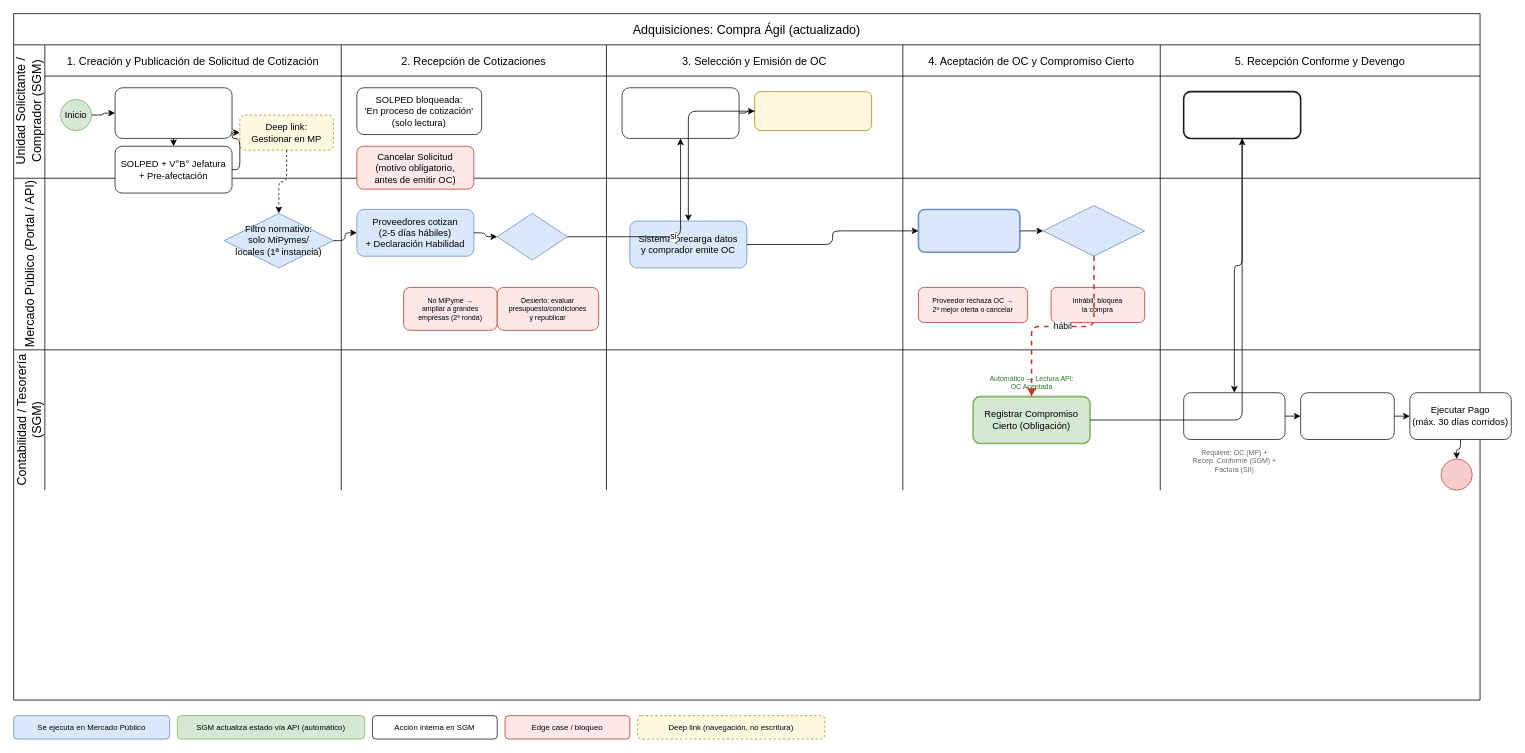
Image size: 1525x753. Some labels were removed from this diagram. Here are the shapes that lost their labels. From the top down, the centre of each, then its label:
At (x=173, y=112): "Comprador crea solicitud (título, descripción, cantidad, despacho, contacto)".
At (x=680, y=112): "Comprador revisa tabla comparativa y selecciona oferta".
At (x=813, y=111): "Si no elige menor precio: fundamentación obligatoria".
At (x=1241, y=114): "Comprador ingresa Recepción Conforme".
At (x=531, y=236): "¿Alguien cotiza?".
At (x=968, y=230): "Proveedor hace clic 'Aceptar'".
At (x=1093, y=230): "¿Proveedor hábil? (Tesorería / DT)".
At (x=1234, y=416): "Registrar Devengado (Match a 3 vías)".
At (x=1347, y=416): "Generar Decreto de Pago".
At (x=1456, y=474): "Fin".
